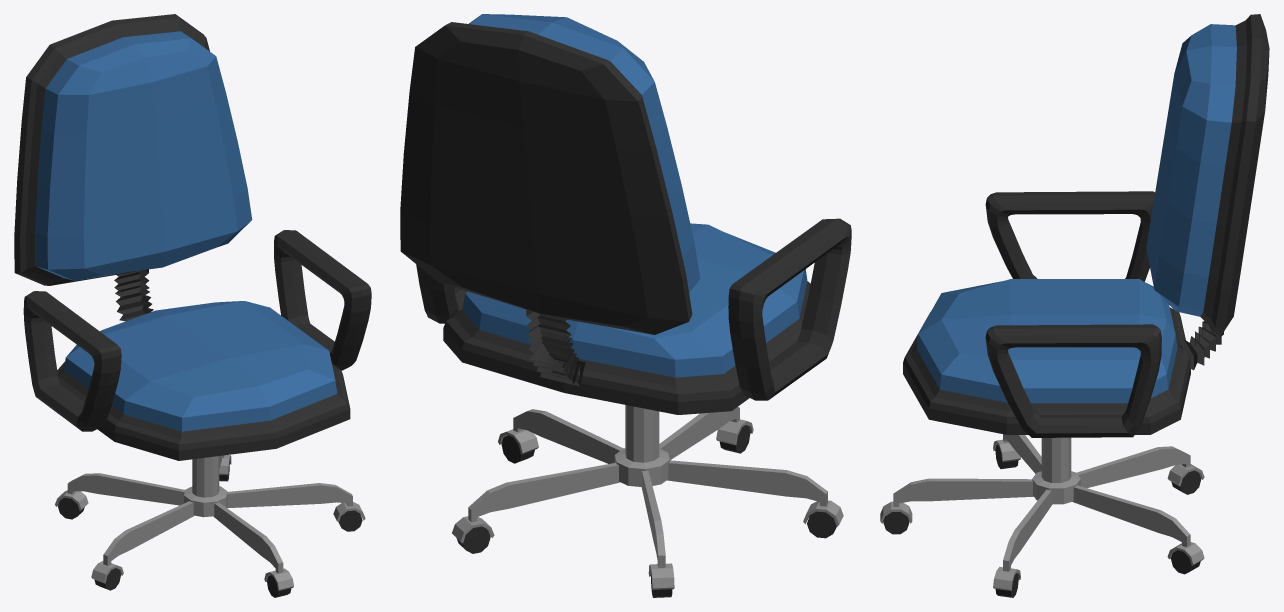
The model's file is OfficeChair.glb.
The picture shows the model from 3 angles, left to right: view 1: azimuth 30°, elevation 25°; view 2: azimuth 150°, elevation 25°; view 3: azimuth 270°, elevation 25°; orthographic projection. The views are drawn at different scales.
Parts seen in each view (by area): view 1: OfficeChair; view 2: OfficeChair; view 3: OfficeChair.
Part boxes in pixels (x1=…): OfficeChair: x1=14, y1=14, x2=371, y2=597; OfficeChair: x1=400, y1=14, x2=851, y2=597; OfficeChair: x1=880, y1=14, x2=1269, y2=597.
Bounding box in the file's own units: 0.7217 × 1.13 × 0.8072.
